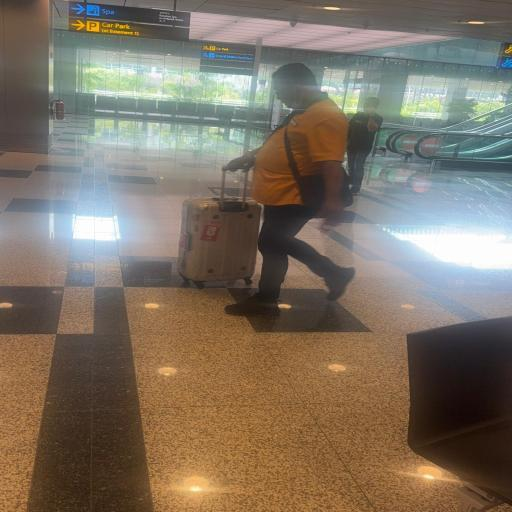person_left: (345, 96, 384, 196)
person_with_luggage_left: (179, 65, 312, 319)
